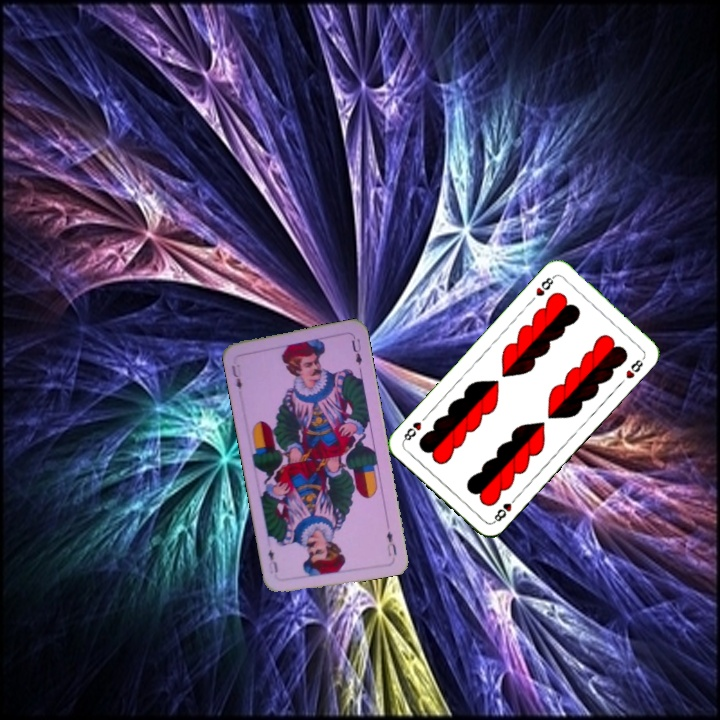EU: (382, 519, 399, 559), (227, 361, 244, 392)
H8: (489, 492, 520, 526), (532, 271, 558, 299)
